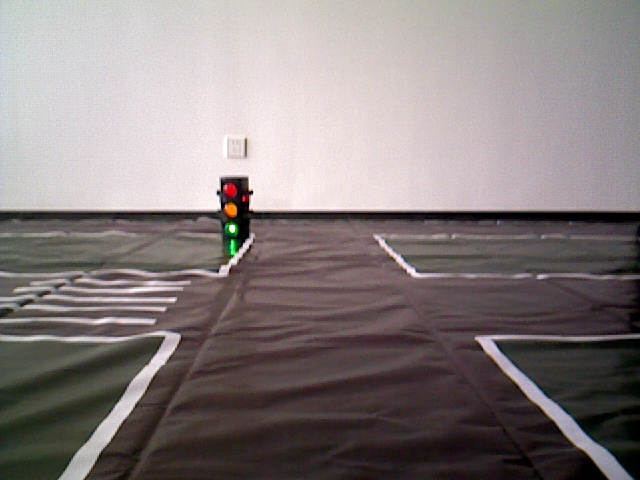green: (221, 177, 245, 233)
